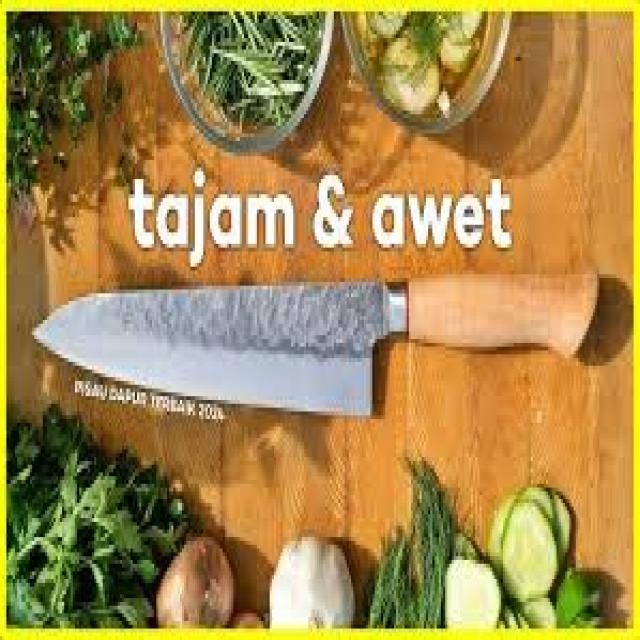Knife: (34, 274, 597, 415)
